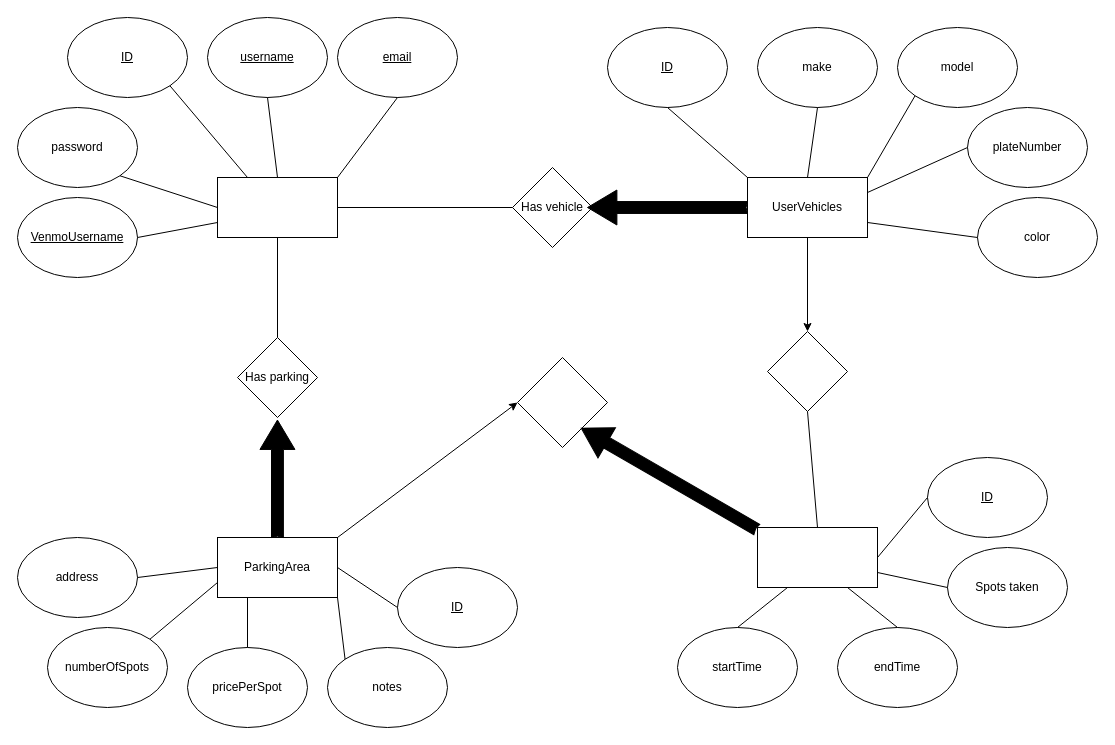
The diagram is 1115 pixels wide and 745 high, and some of its shapes have lost their labels. Each missing label, with the centre of its shape:
IsListed: point 807,371
IsParkingArea: point 562,402
ListedParking: point 817,557
User: point 277,207
